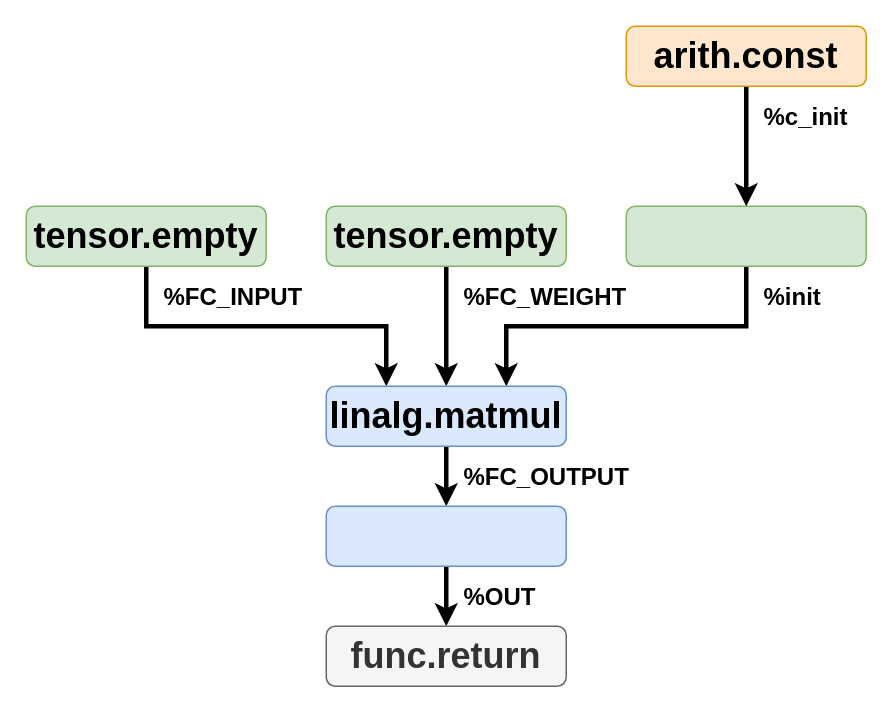
Image size: 893x713. Some labels were removed from this diagram. The shapes that lost their labels are listed below. From the top down, each one's centre as x and y in pixels, then its label:
At pixel 745 235: "tensor.splat".
At pixel 445 535: "linalg.generic".
